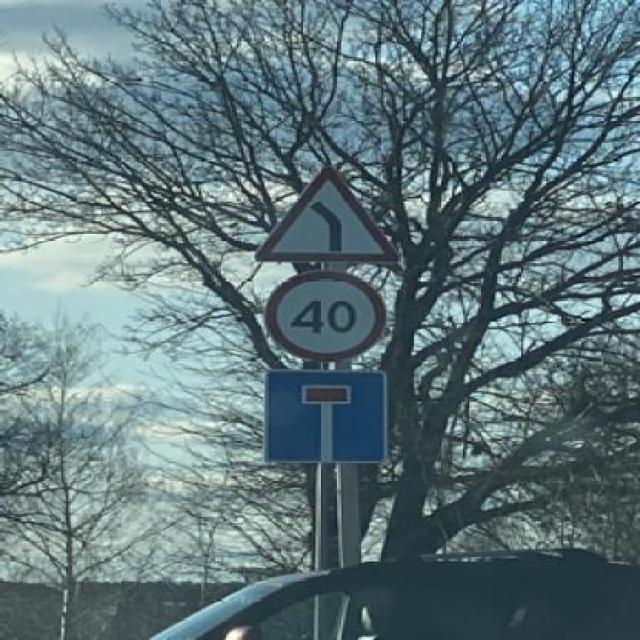forb_speed_over_40: (268, 271, 386, 362)
